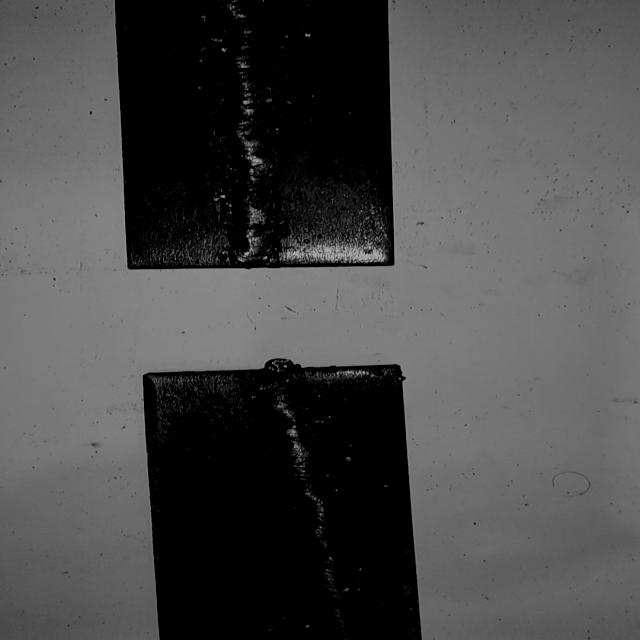Bad Weld: (207, 0, 283, 261)
Defect: (186, 0, 311, 46)
Good Weld: (249, 374, 363, 640)
